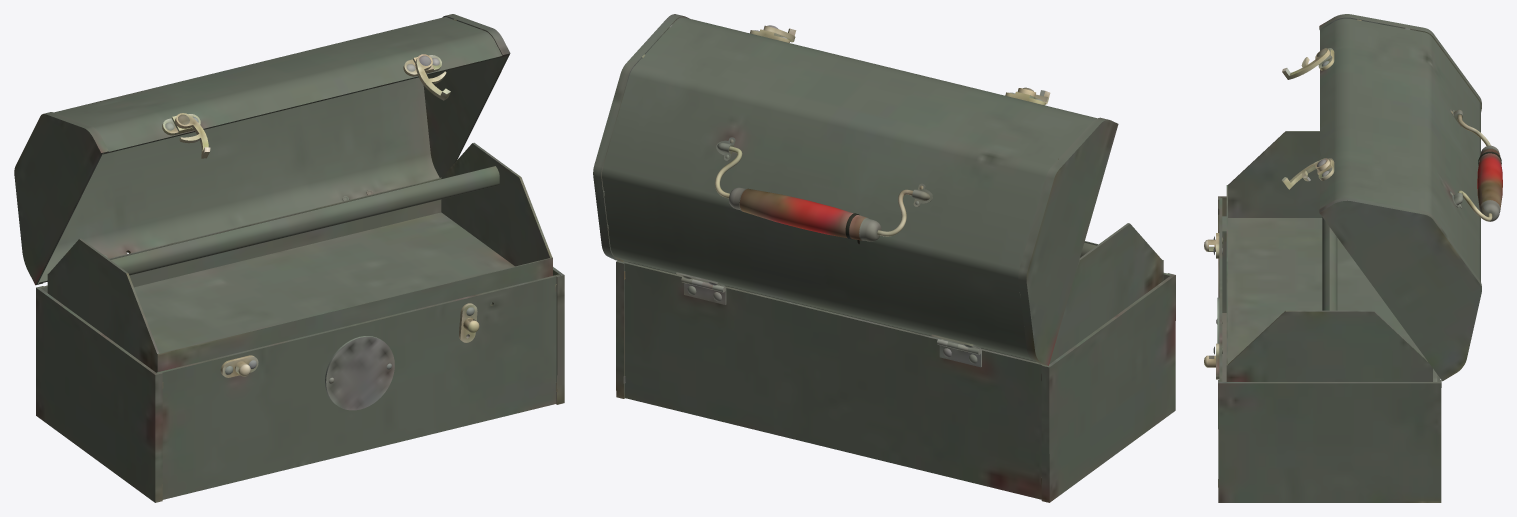
The model's file is metal_toolbox.glb.
The picture shows the model from 3 angles, left to right: view 1: azimuth 30°, elevation 25°; view 2: azimuth 150°, elevation 25°; view 3: azimuth 270°, elevation 25°; orthographic projection. The views are drawn at different scales.
Parts seen in each view (by area): view 1: metal_toolbox; view 2: metal_toolbox; view 3: metal_toolbox.
Part boxes in pixels (x1=…): metal_toolbox: x1=14, y1=14, x2=564, y2=502; metal_toolbox: x1=593, y1=14, x2=1175, y2=502; metal_toolbox: x1=1204, y1=14, x2=1502, y2=502.
Bounding box in the file's own units: 0.4 × 0.3047 × 0.2705.
1 material, 1 textured.
